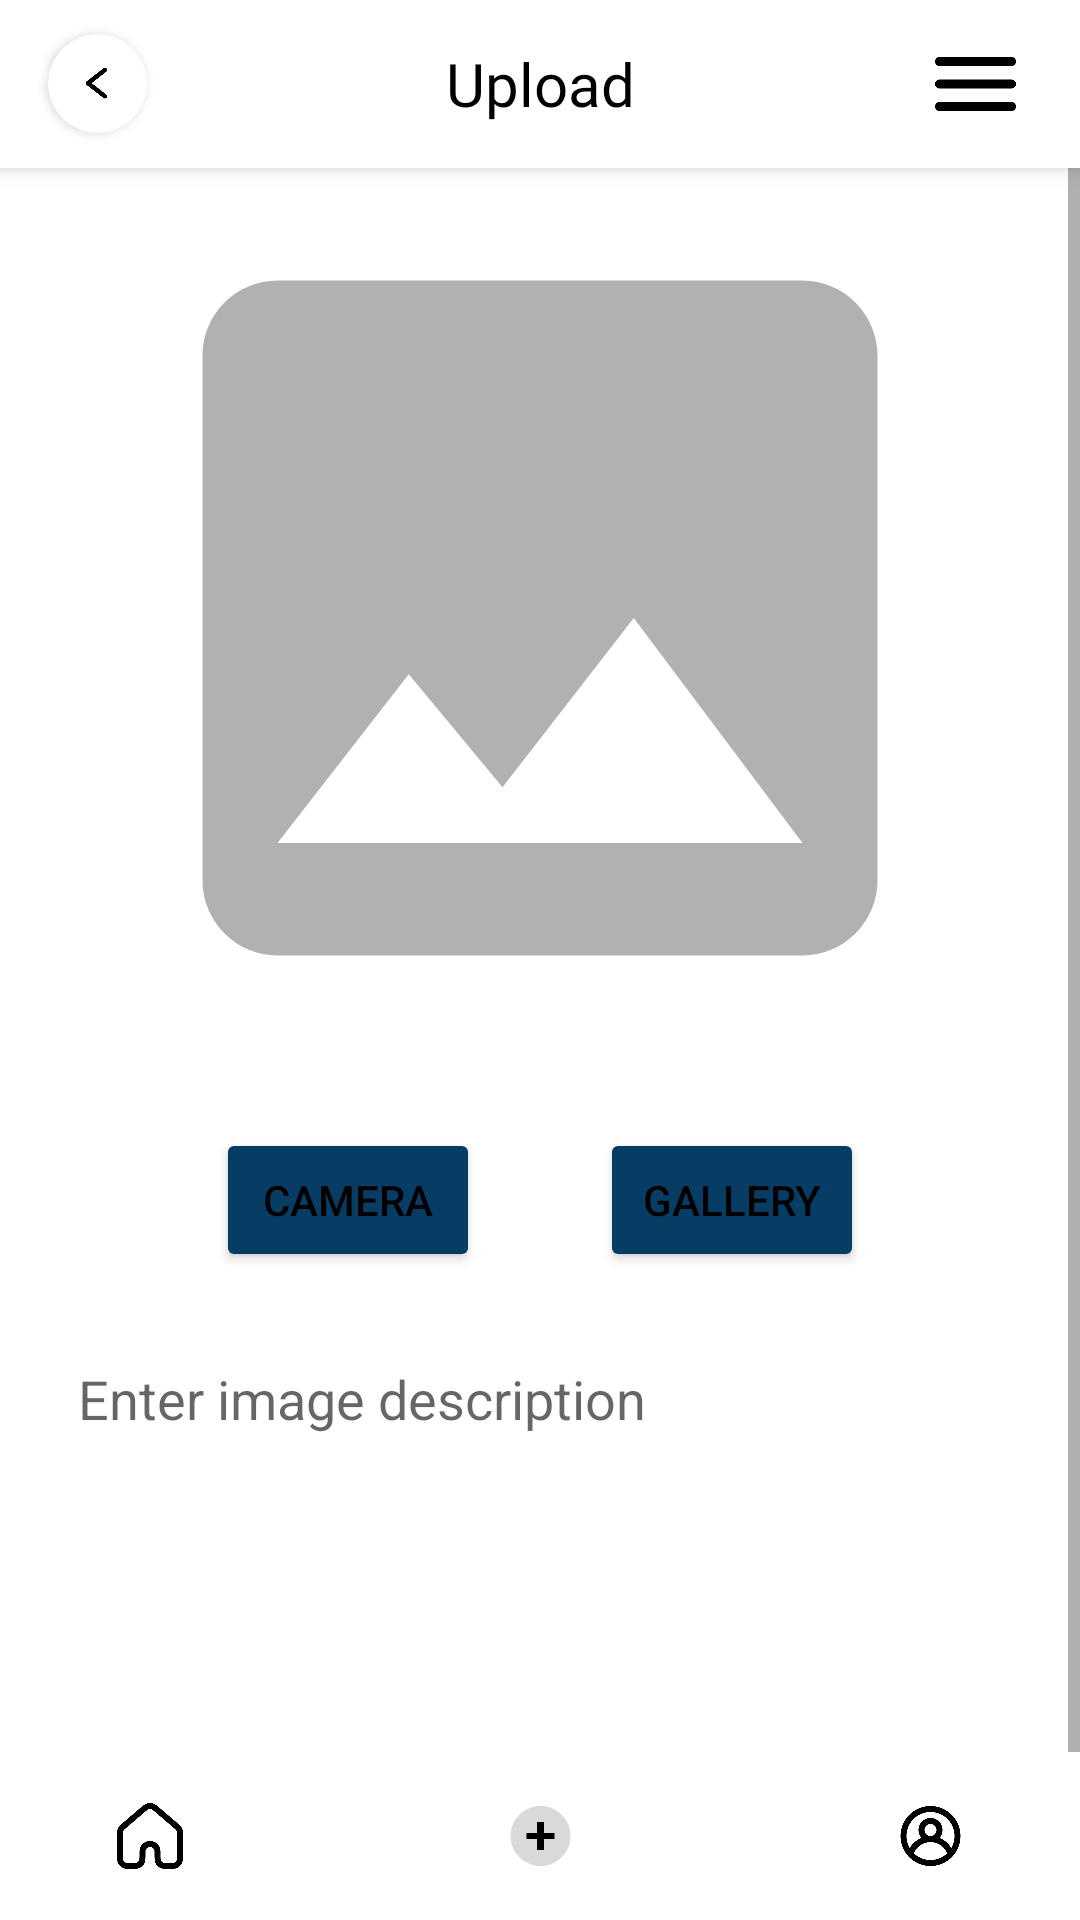

Icons on this 1080px×1920px Android screen, each with the point to tap as (x=x, y=y):
add: (x=540, y=1836)
burger: (x=975, y=84)
home: (x=150, y=1836)
profile: (x=930, y=1836)
